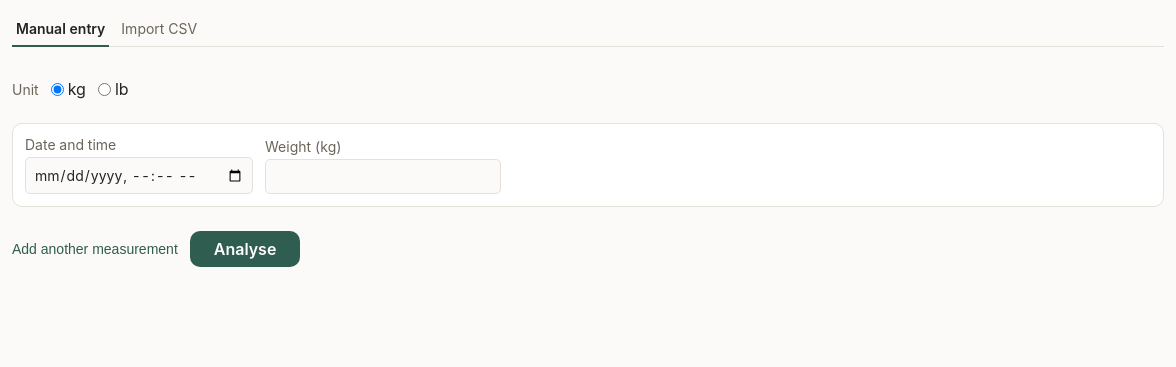
Test: AnalysisWorkspace › starts in manual-entry mode and switches to CSV import on request
Expected: the field labelled "Date and time" is shown, [25,157,253,194]
Click the button "Import CSV" at (159, 30), box [117,12,201,47]
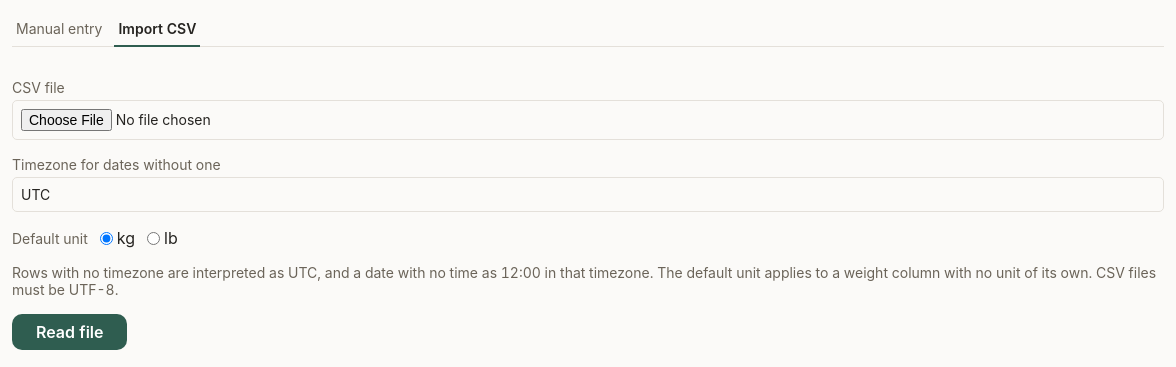
Expected: the file field labelled "CSV file" is shown, [12,100,1164,140]
Expected: the text labelled "Date and time" is gone
